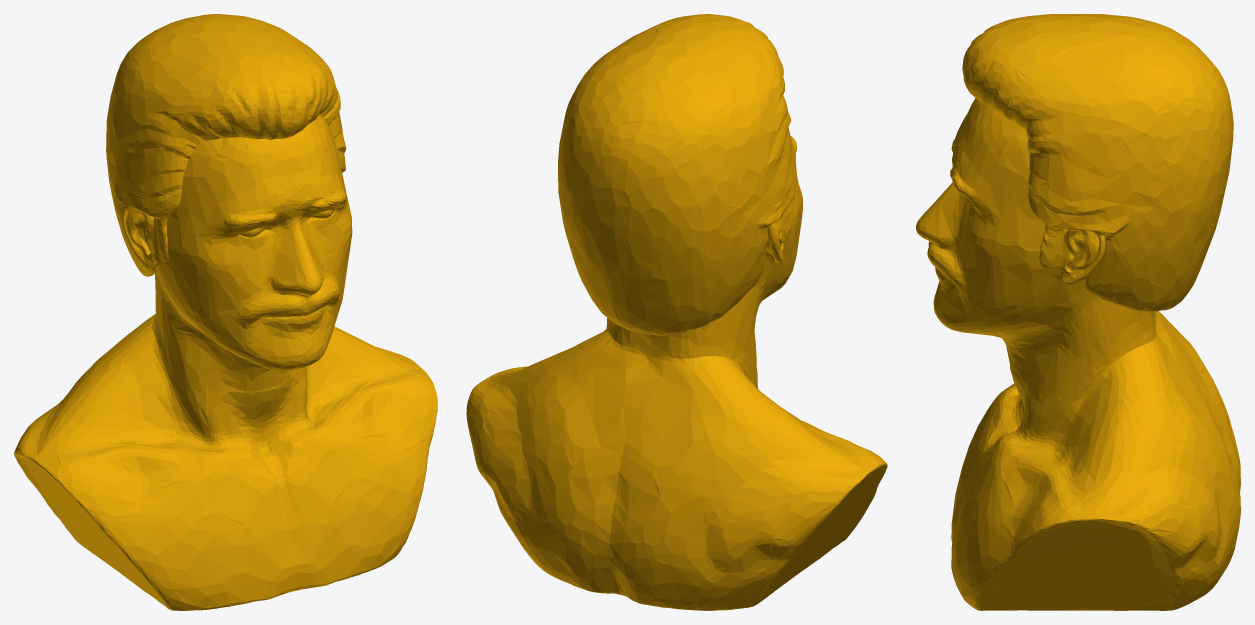
File: cirilo.glb
The picture shows the model from 3 angles, left to right: view 1: azimuth 30°, elevation 25°; view 2: azimuth 150°, elevation 25°; view 3: azimuth 270°, elevation 25°; orthographic projection. The views are drawn at different scales.
Parts seen in each view (by area): view 1: Cirilo1 3Dless Com Simplified(1); view 2: Cirilo1 3Dless Com Simplified(1); view 3: Cirilo1 3Dless Com Simplified(1).
Boxes of the visible parts, x1,y1,x2,y2 form: Cirilo1 3Dless Com Simplified(1): (14, 14, 437, 610); Cirilo1 3Dless Com Simplified(1): (466, 14, 887, 610); Cirilo1 3Dless Com Simplified(1): (916, 14, 1240, 610).
Size of the model in its own units: 1.84 by 2.32 by 1.29.
